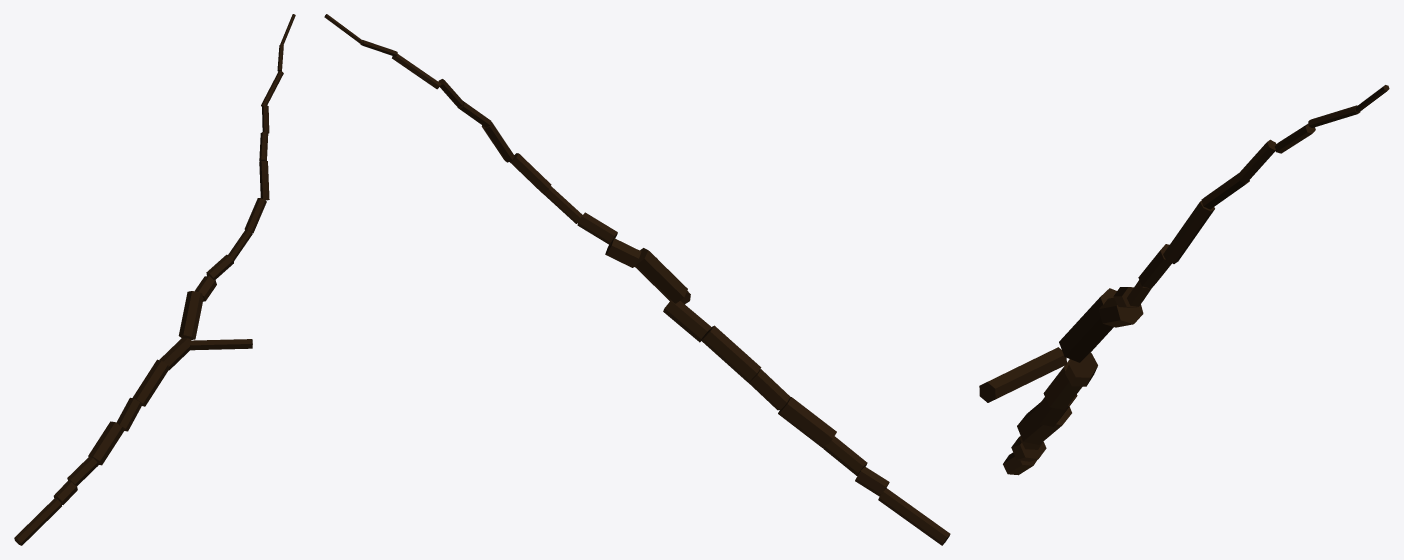
Rendered from tree_543_no_leaf.obj.
The picture shows the model from 3 angles, left to right: view 1: azimuth 30°, elevation 25°; view 2: azimuth 150°, elevation 25°; view 3: azimuth 270°, elevation 25°; orthographic projection. The views are drawn at different scales.
Parts seen in each view (by area): view 1: TrunkAndBranches; view 2: TrunkAndBranches; view 3: TrunkAndBranches.
Boxes of the visible parts, box(x1,y1,x2,y2) form: TrunkAndBranches: box(14, 14, 295, 545); TrunkAndBranches: box(324, 14, 950, 545); TrunkAndBranches: box(979, 85, 1389, 475).
Bounding box in the file's own units: 1.52 × 1.46 × 0.7246.
